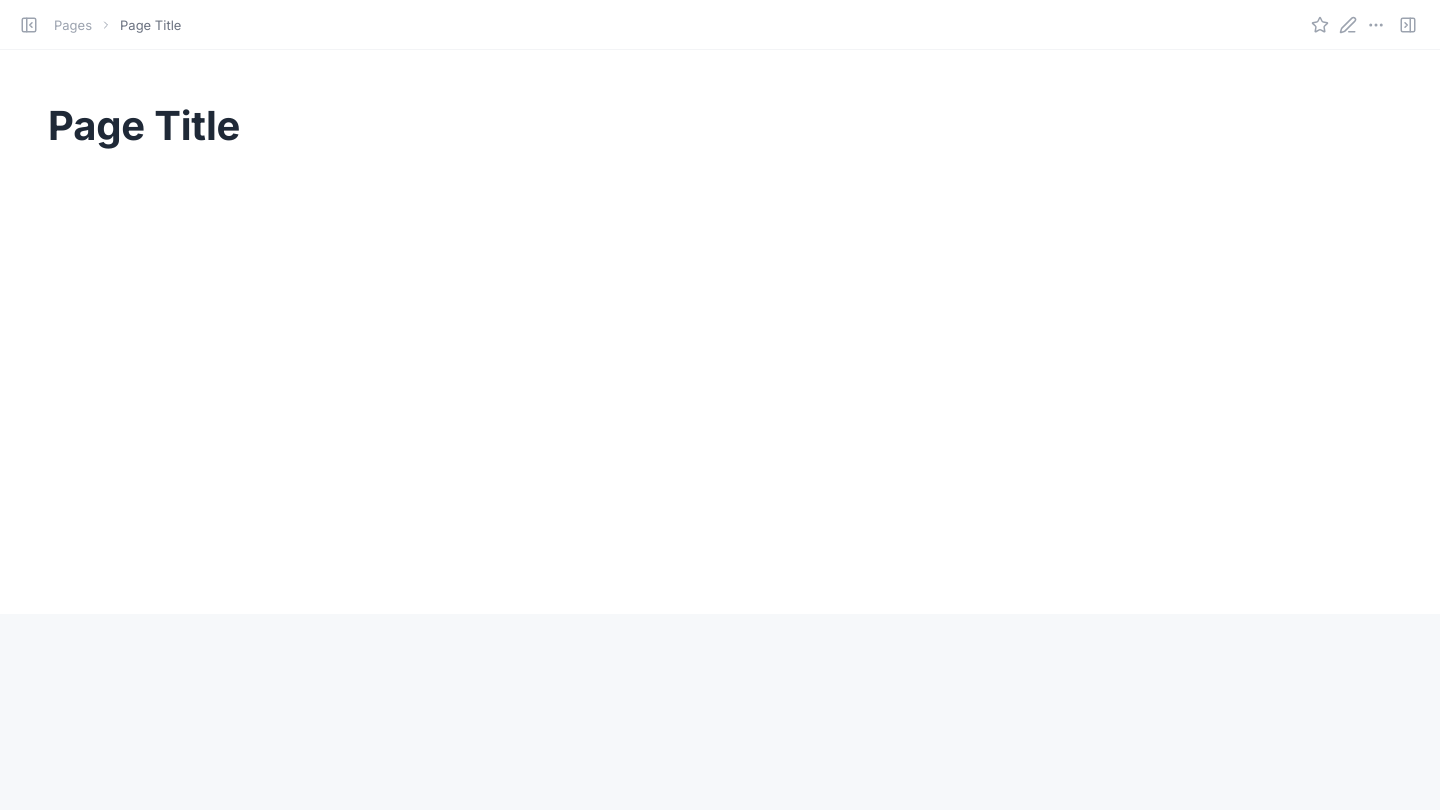
Test case: PageContent › Edit Mode › shows cancel confirmation modal when cancel is clicked
What coordinates should you click on to do the following:
click the button named "Edit page"
I would click on:
 (1348, 24)
Its box is x1=1336 y1=12 x2=1360 y2=36.
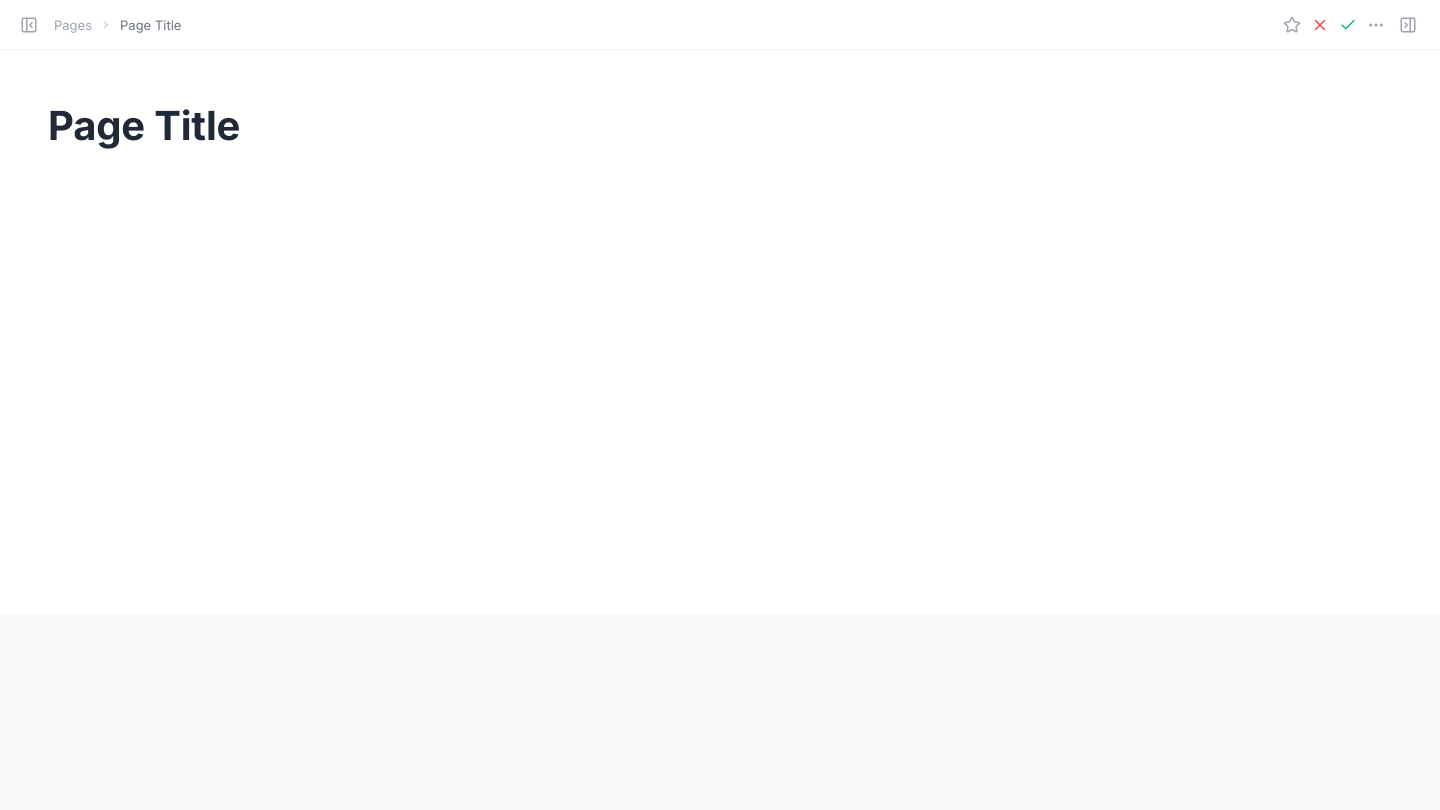
What coordinates should you click on to do the following:
click the button named "Cancel editing"
I would click on:
 (1320, 24)
Its box is x1=1308 y1=12 x2=1332 y2=36.
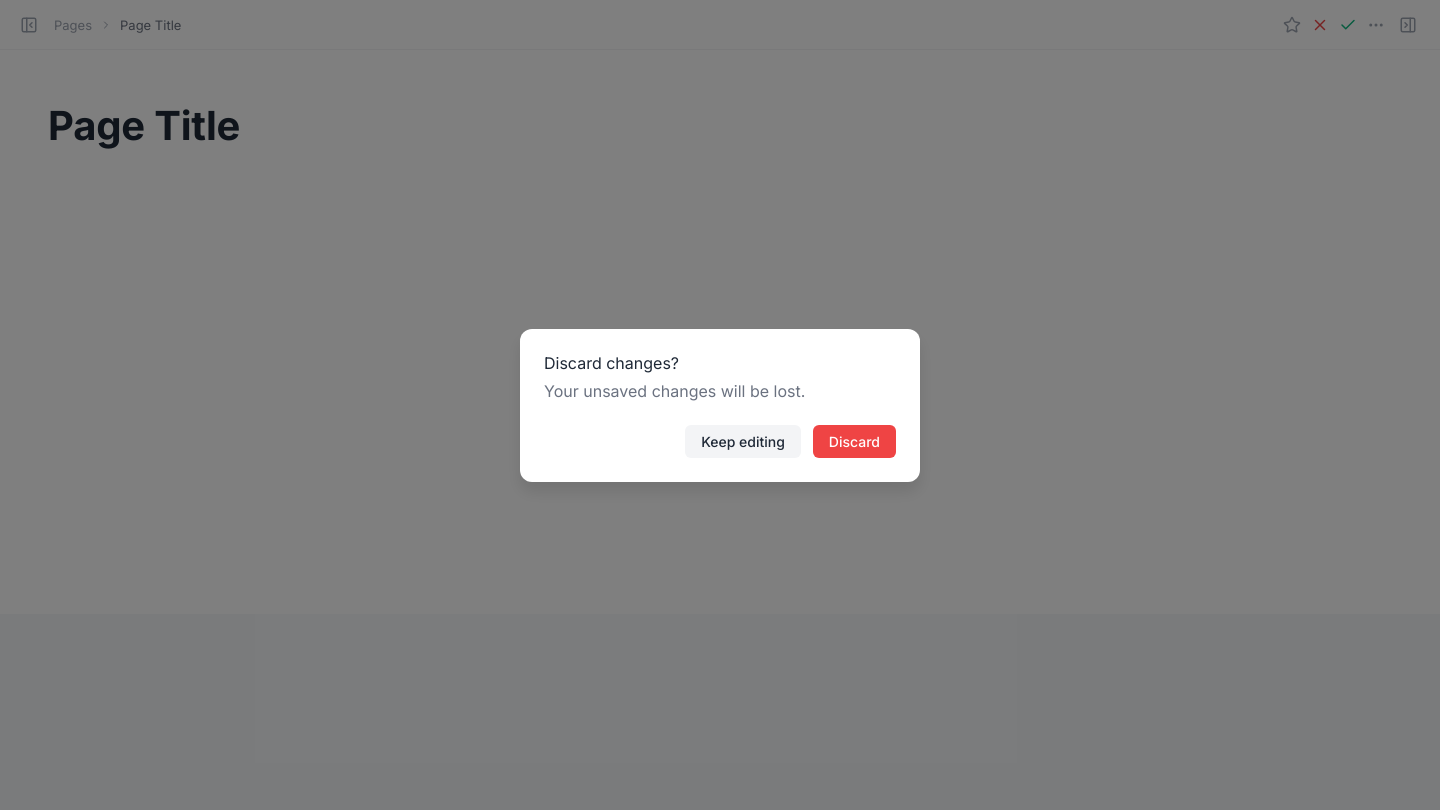
Now the heading "Discard changes?" is shown, box x1=544 y1=352 x2=679 y2=372
Now the button "Keep editing" is shown, box x1=685 y1=424 x2=801 y2=458
Now the button "Discard" is shown, box x1=813 y1=424 x2=896 y2=458
